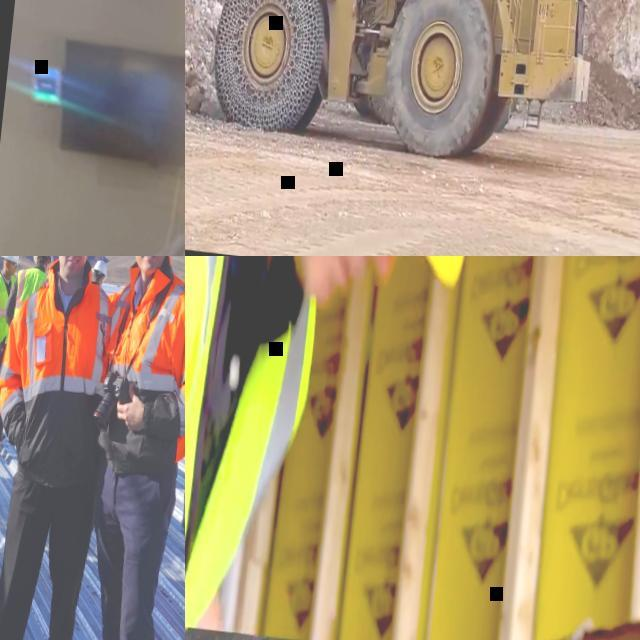helmet: (91, 258, 110, 279), (0, 256, 21, 264), (32, 256, 55, 262)
vest: (185, 256, 341, 640), (0, 256, 118, 486), (91, 256, 185, 462), (8, 265, 50, 318), (0, 268, 16, 346)
